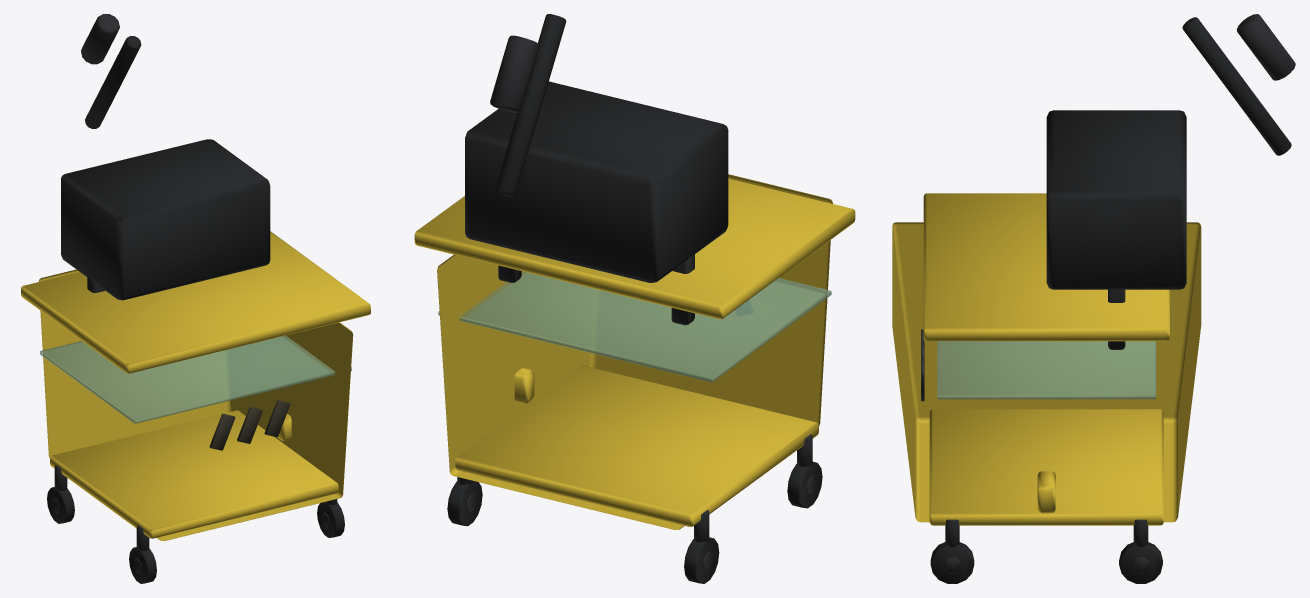
File: asset_073_mop_bucket_and_wringer.glb
3 renders of one model, left to right at view 1: azimuth 30°, elevation 25°; view 2: azimuth 150°, elevation 25°; view 3: azimuth 270°, elevation 25°, orthographic. The views are drawn at different scales.
Visible parts, largest first — view 1: MESH_BucketWall, MESH_WringerBody, MESH_BucketRim, MESH_BucketFloor, MESH_BucketWater, MESH_WringerLeverArm, MESH_WringerLeverGrip, MESH_BucketCasterFL_Tyre, MESH_BucketCasterBL_Tyre, MESH_BucketCasterFR_Tyre, MESH_BucketCaution_0, MESH_BucketCaution_2 (+1 smaller); view 2: MESH_BucketWall, MESH_WringerBody, MESH_BucketFloor, MESH_BucketWater, MESH_BucketRim, MESH_WringerLeverArm, MESH_WringerLeverGrip, MESH_BucketCasterFL_Tyre, MESH_BucketCasterBL_Tyre, MESH_BucketCasterBR_Tyre, MESH_BucketDrainSpout; view 3: MESH_BucketWall, MESH_BucketFloor, MESH_WringerBody, MESH_BucketRim, MESH_BucketWater, MESH_WringerLeverArm, MESH_WringerLeverGrip, MESH_BucketCasterFR_Tyre, MESH_BucketCasterBR_Tyre, MESH_BucketDrainSpout.
Part boxes in pixels (x1,y1,x2,y2): MESH_BucketWall: [38, 269, 353, 540]; MESH_WringerBody: [61, 139, 270, 300]; MESH_BucketRim: [21, 231, 370, 373]; MESH_BucketFloor: [50, 410, 338, 538]; MESH_BucketWater: [40, 335, 351, 423]; MESH_WringerLeverArm: [85, 36, 141, 128]; MESH_WringerLeverGrip: [81, 14, 119, 64]; MESH_BucketCasterFL_Tyre: [129, 547, 156, 583]; MESH_BucketCasterBL_Tyre: [47, 487, 74, 523]; MESH_BucketCasterFR_Tyre: [317, 502, 344, 537]; MESH_BucketCaution_0: [209, 413, 235, 450]; MESH_BucketCaution_2: [264, 400, 290, 437]; MESH_BucketWall: [437, 174, 832, 529]; MESH_WringerBody: [465, 81, 728, 282]; MESH_BucketFloor: [455, 365, 818, 526]; MESH_BucketWater: [438, 271, 831, 382]; MESH_BucketRim: [414, 178, 855, 319]; MESH_WringerLeverArm: [495, 14, 566, 196]; MESH_WringerLeverGrip: [490, 35, 539, 112]; MESH_BucketCasterFL_Tyre: [787, 461, 822, 508]; MESH_BucketCasterBL_Tyre: [684, 537, 719, 583]; MESH_BucketCasterBR_Tyre: [447, 481, 482, 526]; MESH_BucketDrainSpout: [514, 368, 534, 403]; MESH_BucketWall: [892, 222, 1201, 522]; MESH_BucketFloor: [929, 409, 1163, 525]; MESH_WringerBody: [1046, 110, 1186, 289]; MESH_BucketRim: [923, 193, 1169, 341]; MESH_BucketWater: [937, 341, 1156, 399]; MESH_WringerLeverArm: [1182, 17, 1291, 155]; MESH_WringerLeverGrip: [1237, 14, 1295, 80]; MESH_BucketCasterFR_Tyre: [930, 542, 974, 583]; MESH_BucketCasterBR_Tyre: [1119, 542, 1162, 583]; MESH_BucketDrainSpout: [1037, 471, 1055, 513].
Size of the model in its own units: 0.55 by 0.9311 by 0.6637.
